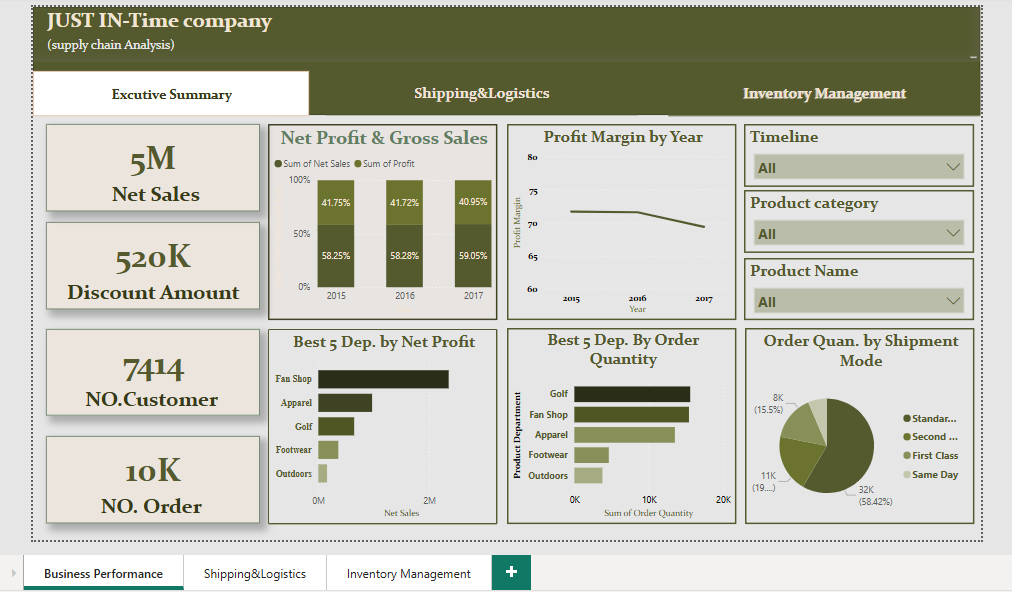

What the dashboard file says about the page in this screenshot:
{"tool":"powerbi","page":{"name":"Business Performance","canvas":[1280,720],"ordinal":0},"visuals":[{"type":"shape","box":[0,0,1280,146.2],"z":0},{"type":"textbox","title":"JUST IN-Time company","box":[0,0,1280,73.8],"z":1000},{"type":"card","title":"Net Profit","fields":{"Values":["Sum(order.Net Sales)"]},"box":[16.9,158.5,289.2,118.5],"z":2000},{"type":"card","title":"Net Profit","fields":{"Values":["Sum(order.Discount)"]},"box":[16.9,290.8,289.2,118.5],"z":3000},{"type":"card","title":"Net Profit","fields":{"Values":["Count(order.Customer ID)"]},"box":[16.9,435.4,289.2,116.9],"z":4000},{"type":"card","title":"Net Profit","fields":{"Values":["Count(order.Order ID)"]},"box":[16.9,580,289.2,118.5],"z":5000},{"type":"hundredPercentStackedColumnChart","title":" Net Profit & Gross Sales  ","fields":{"Y":["Sum(order.Net Sales)","Sum(order.Profit)"],"Category":["Date.Year"]},"box":[316.9,158.5,310,264.6],"z":6000},{"type":"clusteredBarChart","title":"Best 5 Dep. by Net Profit","fields":{"Y":["Sum(order.Net Sales)"],"Category":["product.Product Department"]},"box":[316.9,435.4,310,264],"z":7000},{"type":"pieChart","title":" Order Quan. by Shipment Mode","fields":{"Y":["Sum(order.Order Quantity)"],"Category":["order.Shipment Mode"]},"box":[961.5,433.8,310,264.6],"z":8000},{"type":"actionButton","title":"Executive Summary","box":[0,86.4,372.7,60.6],"z":9000},{"type":"actionButton","title":"Shipping&Logistics","box":[395.4,84.6,421.5,61.5],"z":10000},{"type":"actionButton","title":"Shipping&Logistics","box":[858.5,86.2,421.5,61.5],"z":11000},{"type":"lineChart","fields":{"Y":["order.Profit Margin"],"Category":["Date.Year"]},"box":[640,158.5,310,264.6],"z":12000},{"type":"slicer","title":"Product Name","fields":{"Values":["product.Product Name"]},"box":[960.5,339.8,311,83.5],"z":13000},{"type":"actionButton","title":"Shipping&Logistics","box":[858.8,86.4,421.2,60.6],"z":14000},{"type":"slicer","title":"Timeline","fields":{"Values":["Date.Month","Date.Year"]},"box":[960.5,158.4,311,85],"z":15000},{"type":"slicer","title":"Product category","fields":{"Values":["product.Product Category"]},"box":[960.5,247.7,311,85],"z":16000},{"type":"barChart","title":"Best 5 Dep. By Order Quantity","fields":{"Y":["Sum(order.Order Quantity)"],"Category":["product.Product Department"]},"box":[640,433.8,310,264.6],"z":17000}]}

Visuals, with their boxes on the page's 1280x720 design canvas (x1, y1, x2, y2). These are canvas units, not pixel positions in the 1012x592 screenshot, which may show the page scaled, cropped or inside an application window:
shape: region(0, 0, 1280, 146)
"JUST IN-Time company" textbox: region(0, 0, 1280, 74)
"Net Profit" card: region(17, 158, 306, 277)
"Net Profit" card: region(17, 291, 306, 409)
"Net Profit" card: region(17, 435, 306, 552)
"Net Profit" card: region(17, 580, 306, 698)
" Net Profit & Gross Sales  " hundredPercentStackedColumnChart: region(317, 158, 627, 423)
"Best 5 Dep. by Net Profit" clusteredBarChart: region(317, 435, 627, 699)
" Order Quan. by Shipment Mode" pieChart: region(962, 434, 1272, 698)
"Executive Summary" actionButton: region(0, 86, 373, 147)
"Shipping&Logistics" actionButton: region(395, 85, 817, 146)
"Shipping&Logistics" actionButton: region(858, 86, 1280, 148)
lineChart - order.Profit Margin x Date.Year: region(640, 158, 950, 423)
"Product Name" slicer: region(960, 340, 1272, 423)
"Shipping&Logistics" actionButton: region(859, 86, 1280, 147)
"Timeline" slicer: region(960, 158, 1272, 243)
"Product category" slicer: region(960, 248, 1272, 333)
"Best 5 Dep. By Order Quantity" barChart: region(640, 434, 950, 698)
